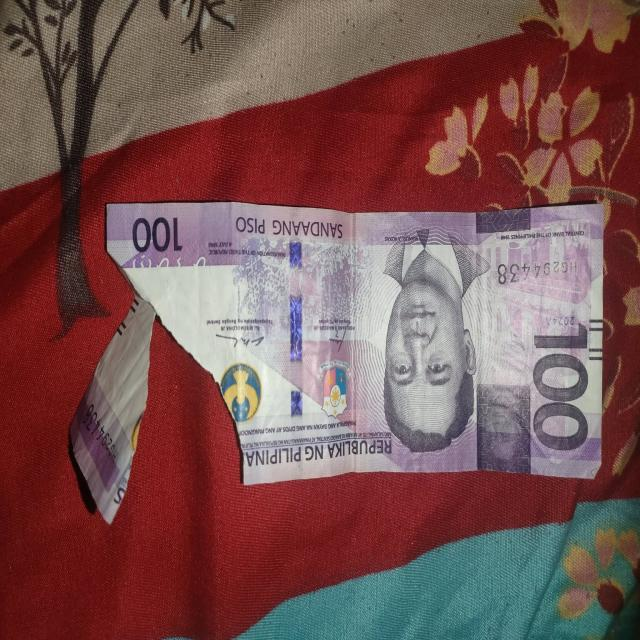broken: (66, 189, 620, 549)
torn: (84, 267, 288, 540)
